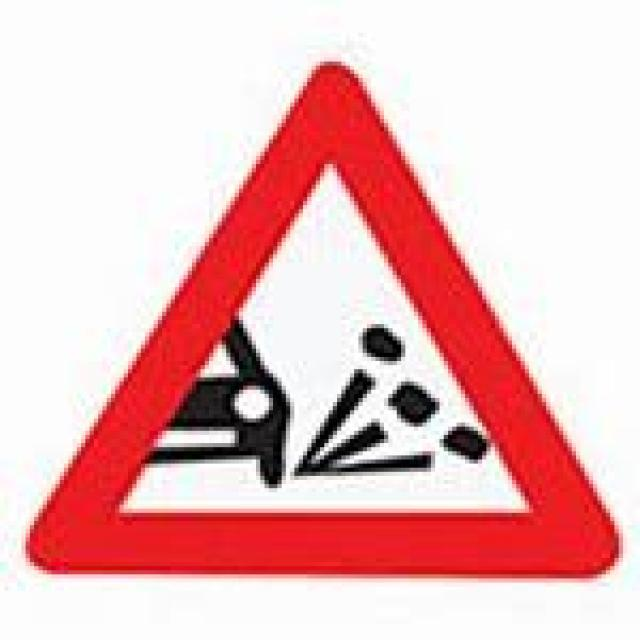loose gravel: (26, 61, 613, 575)
